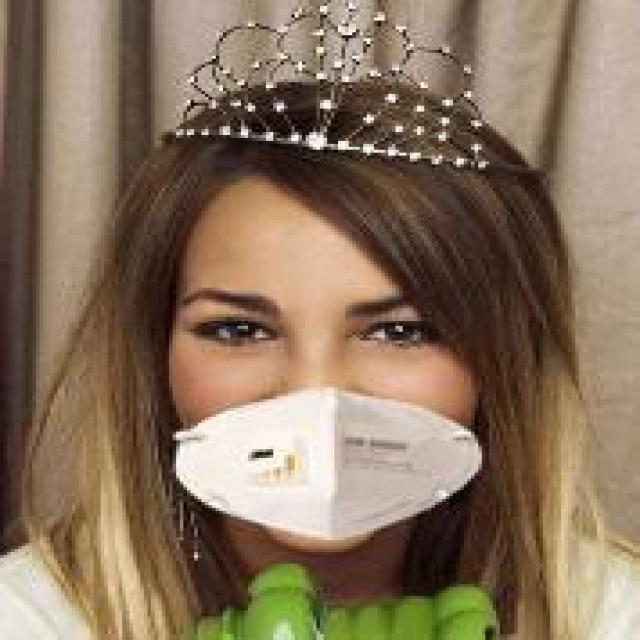mask: (101, 44, 557, 573)
